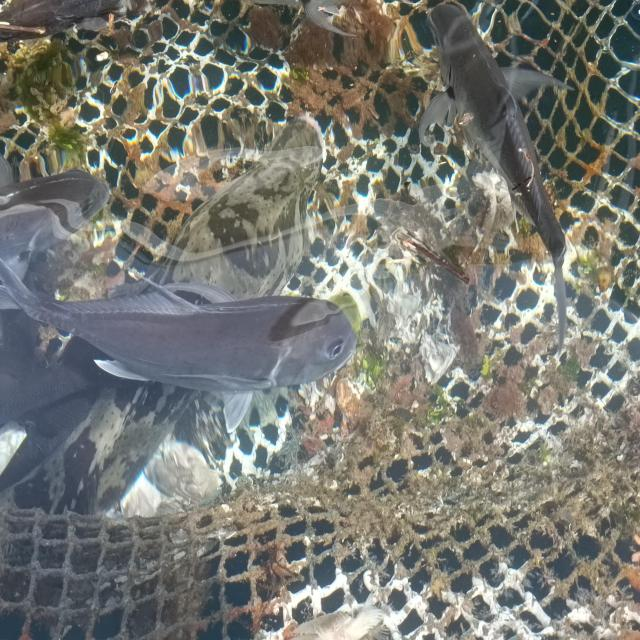ikan: (1, 256, 358, 432), (416, 1, 574, 359), (0, 160, 110, 308)
